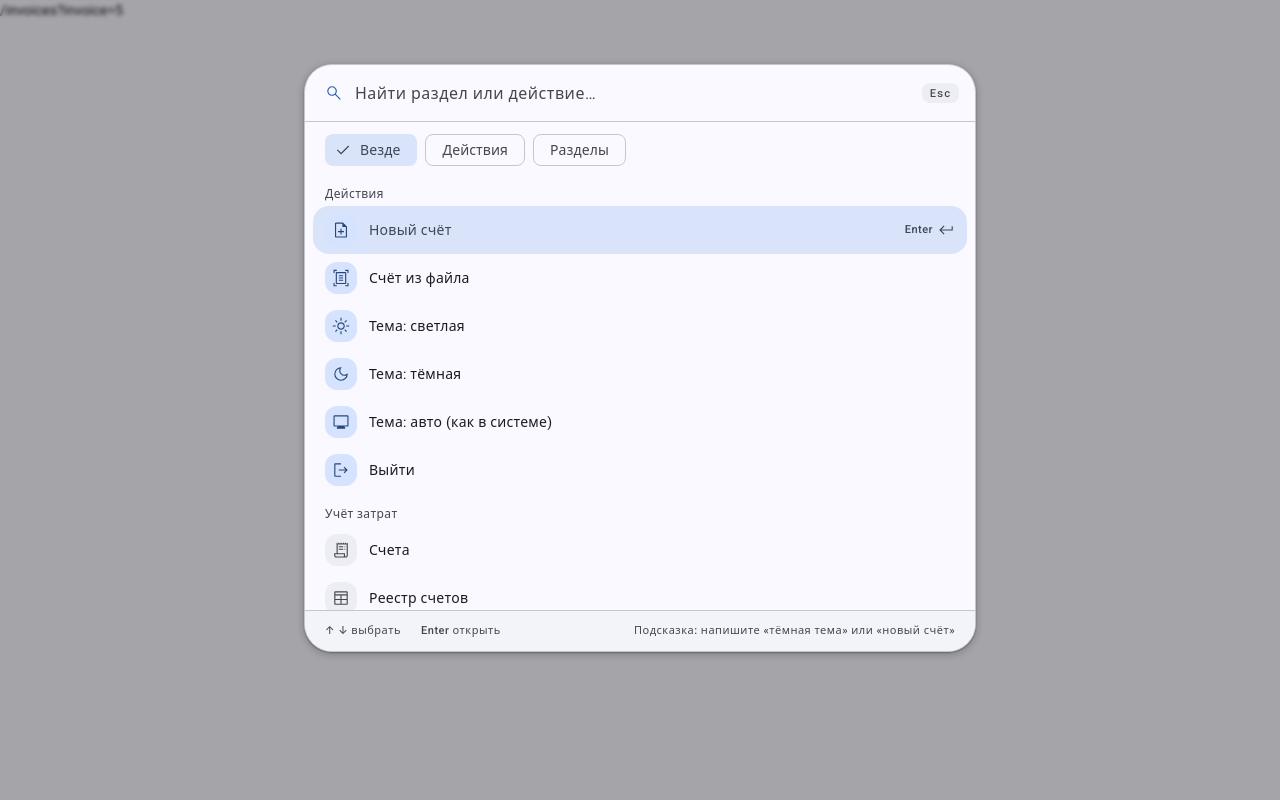
командная палитра › на своём экране открытая запись остаётся в адресе
Type "новый счет" into the field named "Поиск и действия" at (632, 93), box [355,65,910,121]
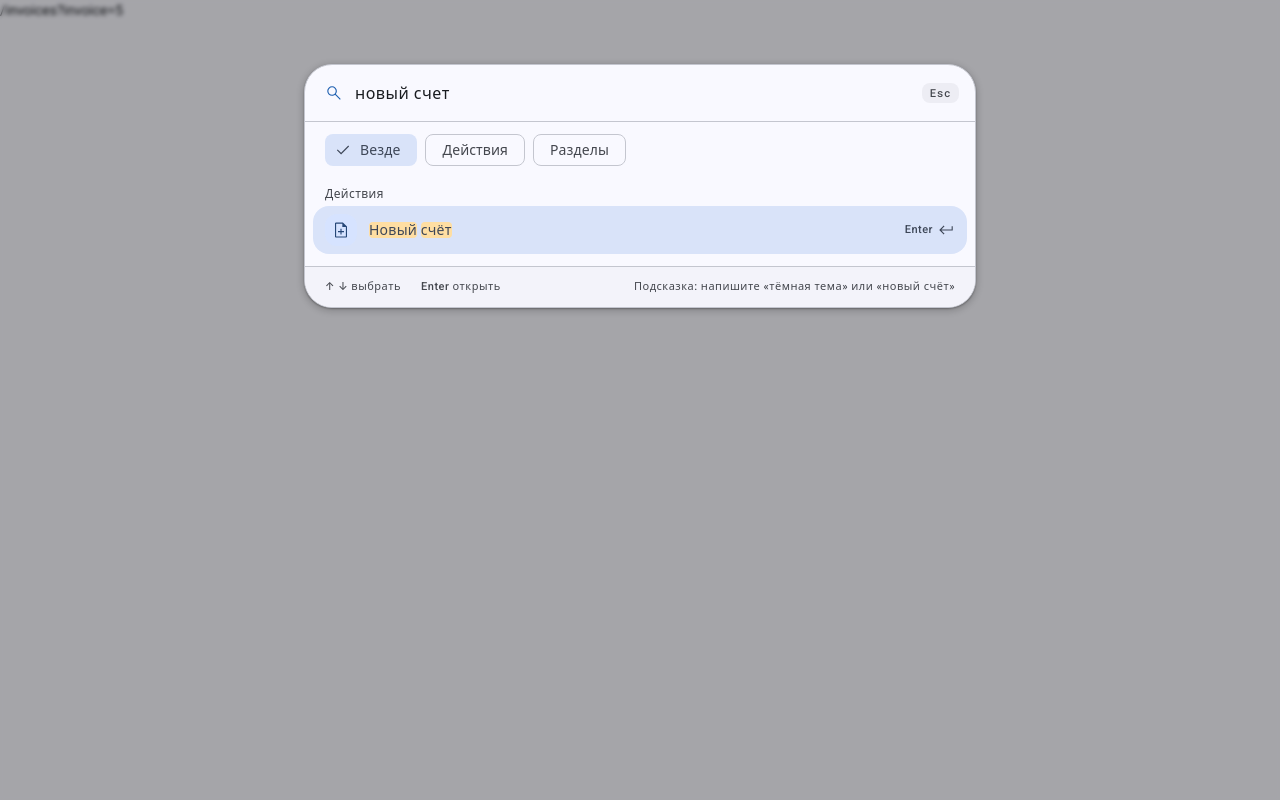
Press Enter in the field named "Поиск и действия", box [355,65,910,121]
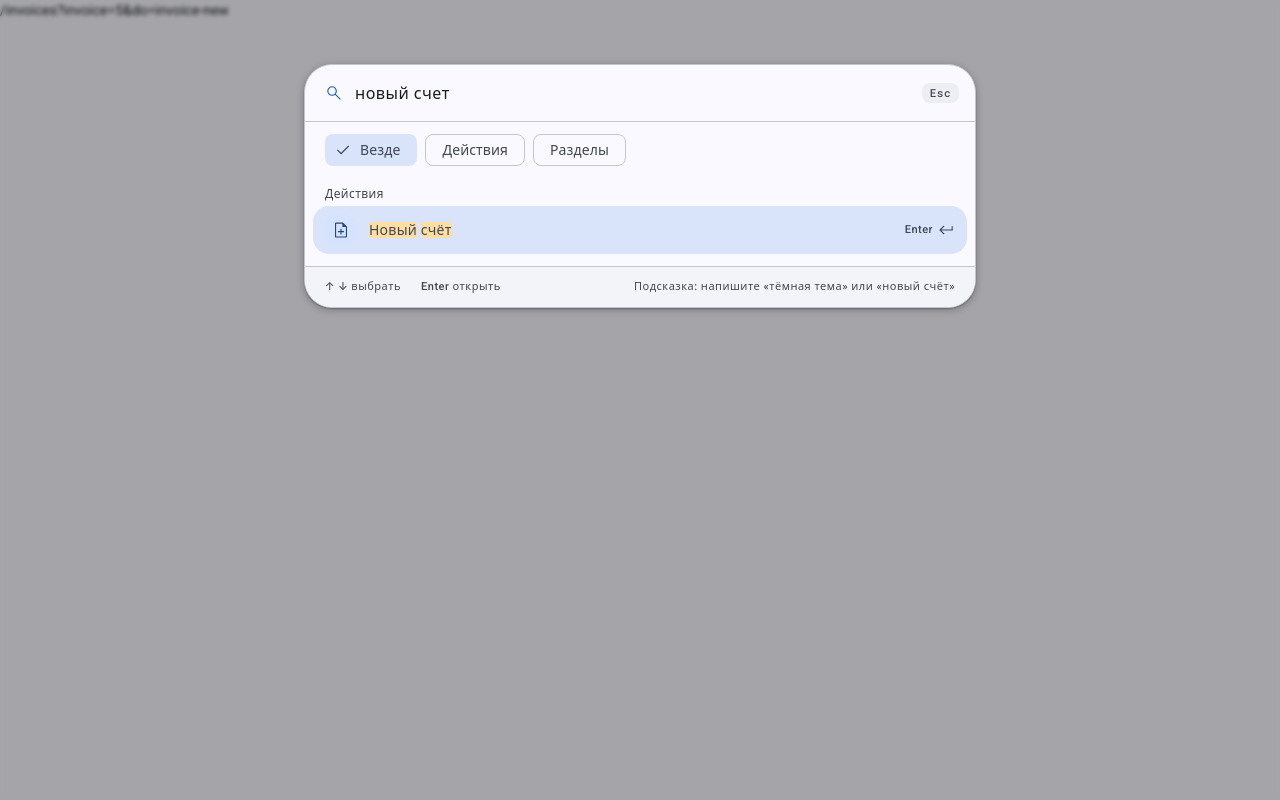
Check: the text named "адрес" reads "/invoices?invoice=5&do=invoice-new", box [0,2,229,18]
